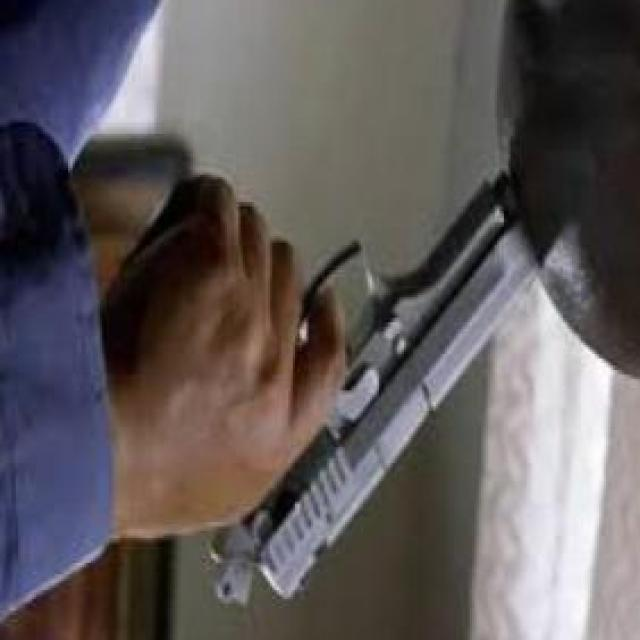pistol: (145, 170, 531, 615)
